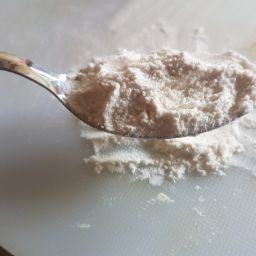Plain flour: (59, 45, 256, 149), (47, 108, 256, 185), (109, 62, 240, 119)
